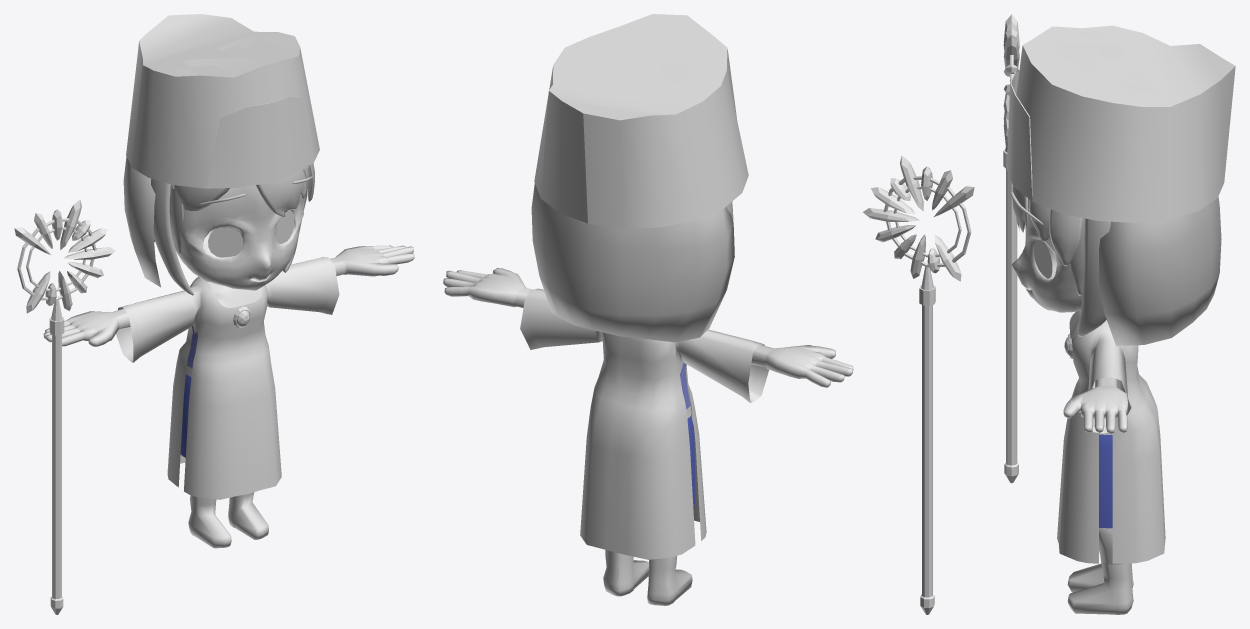
Rendered from souryo.fbx.
The picture shows the model from 3 angles, left to right: view 1: azimuth 30°, elevation 25°; view 2: azimuth 150°, elevation 25°; view 3: azimuth 270°, elevation 25°; orthographic projection. The views are drawn at different scales.
Visible parts, largest first — view 1: Cylinder, Plane.004, Plane, Torus, Cube.003, Plane.007, Plane.003, Cube.011, Cube, Plane.002, Cube.002, Plane.008 (+1 smaller); view 2: Cylinder, Plane.004, Plane.003, Plane, Torus, Cube.003, Plane.007; view 3: Cylinder, Plane.004, Plane.003, Plane, Torus, Plane.007, Cube.010, Cube.006, Plane.006, Cube.003, Cube.008, Cube.001 (+2 smaller).
Part boxes in pixels (box(x1,y1,x2,y2)): Cylinder: box(126, 14, 319, 188); Plane.004: box(116, 257, 339, 499); Plane: box(43, 184, 414, 508); Torus: box(17, 218, 96, 614); Cube.003: box(14, 199, 115, 313); Plane.007: box(188, 492, 268, 548); Plane.003: box(123, 156, 307, 287); Cube.011: box(151, 178, 193, 295); Cube: box(256, 169, 306, 217); Plane.002: box(208, 227, 243, 257); Cube.002: box(172, 184, 229, 210); Plane.008: box(208, 281, 262, 307); Cylinder: box(534, 14, 748, 228); Plane.004: box(520, 288, 768, 559); Plane.003: box(531, 183, 734, 342); Plane: box(443, 268, 853, 587); Torus: box(883, 176, 971, 614); Cube.003: box(863, 155, 974, 281); Plane.007: box(603, 550, 692, 605); Cylinder: box(1007, 25, 1235, 222); Plane.004: box(1057, 322, 1165, 563); Plane.003: box(1099, 196, 1221, 345); Plane: box(1012, 198, 1131, 573); Torus: box(1003, 55, 1018, 483); Plane.007: box(1067, 557, 1133, 614); Cube.010: box(1078, 218, 1110, 336); Cube.006: box(1049, 209, 1082, 266); Plane.006: box(1099, 434, 1112, 528); Cube.003: box(1003, 14, 1019, 147); Cube.008: box(1070, 218, 1084, 295); Cube.001: box(1029, 200, 1050, 241).
Size of the model in its own units: 570 by 613 by 233.
